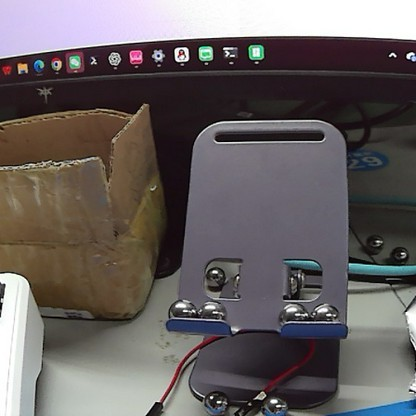ironball: (159, 291, 192, 329), (279, 299, 310, 332), (311, 297, 341, 329), (197, 291, 225, 324), (204, 383, 232, 414), (203, 262, 230, 289), (261, 391, 286, 416), (388, 243, 410, 267), (365, 230, 385, 252)
